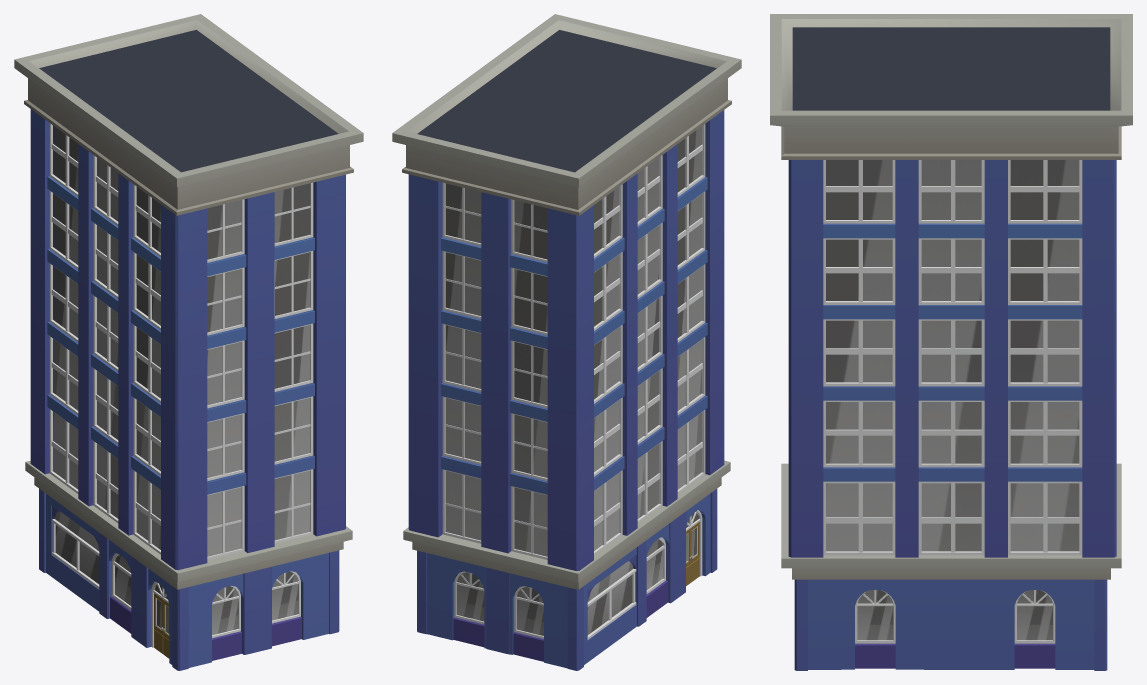
Rendered from Building_27_R.glb.
3 renders of one model, left to right at view 1: azimuth 30°, elevation 25°; view 2: azimuth 150°, elevation 25°; view 3: azimuth 270°, elevation 25°, orthographic. The views are drawn at different scales.
Visible parts, largest first — view 1: Building_27_R; view 2: Building_27_R; view 3: Building_27_R.
Boxes of the visible parts, <box> form: Building_27_R: <box>14,14,363,670</box>; Building_27_R: <box>392,14,741,670</box>; Building_27_R: <box>770,14,1132,670</box>.
Size of the model in its own units: 7.65 by 19.74 by 11.55.
3 materials, 3 textured.
